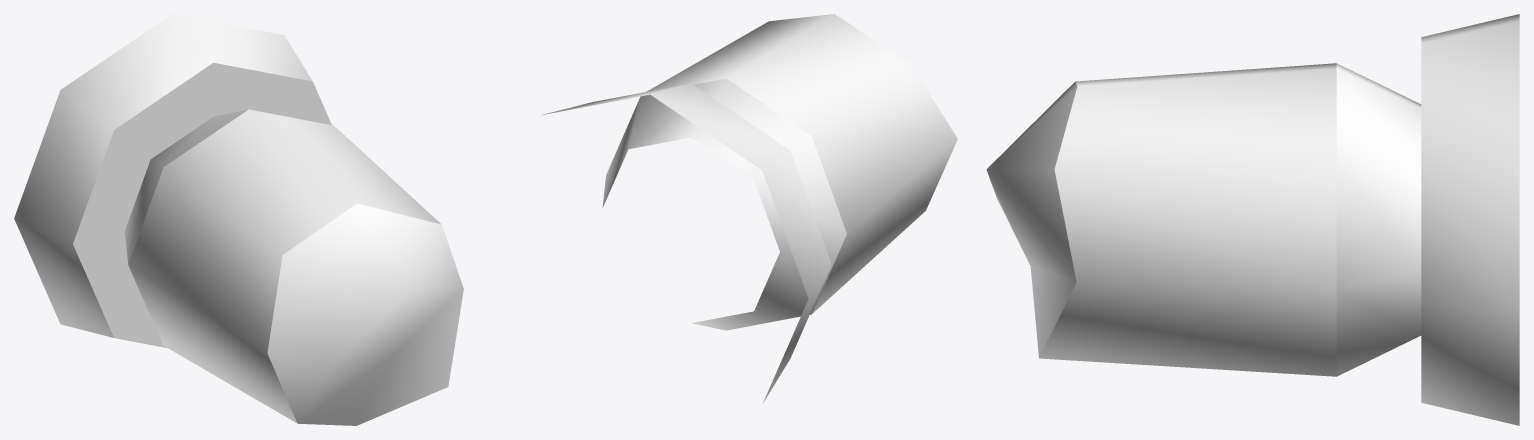
The model's file is doric pillar broken.glb.
3 views of the same model, side by side, from view 1: azimuth 30°, elevation 25°; view 2: azimuth 150°, elevation 25°; view 3: azimuth 270°, elevation 25° (orthographic). The views are drawn at different scales.
Parts seen in each view (by area): view 1: doric_broken_short.model-Mesh[0]; view 2: doric_broken_short.model-Mesh[0]; view 3: doric_broken_short.model-Mesh[0].
Part boxes in pixels (left/top/right/bottom): doric_broken_short.model-Mesh[0]: left=14, top=14, right=463, bottom=425; doric_broken_short.model-Mesh[0]: left=541, top=14, right=957, bottom=403; doric_broken_short.model-Mesh[0]: left=986, top=14, right=1519, bottom=425.
Size of the model in its own units: 1.65 by 1.65 by 2.
Materials: 1 (1 with a texture image).
